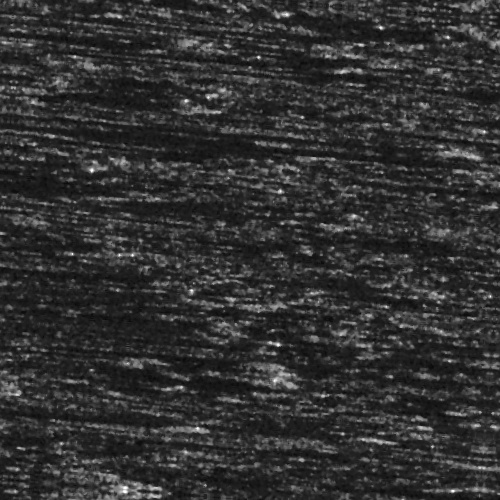object: (363, 118, 468, 147), (249, 350, 322, 371), (439, 138, 500, 151), (374, 421, 437, 428), (189, 427, 220, 432)
shadow: (12, 138, 491, 151), (119, 350, 286, 371), (334, 118, 416, 147), (320, 421, 405, 428), (116, 427, 204, 432)
